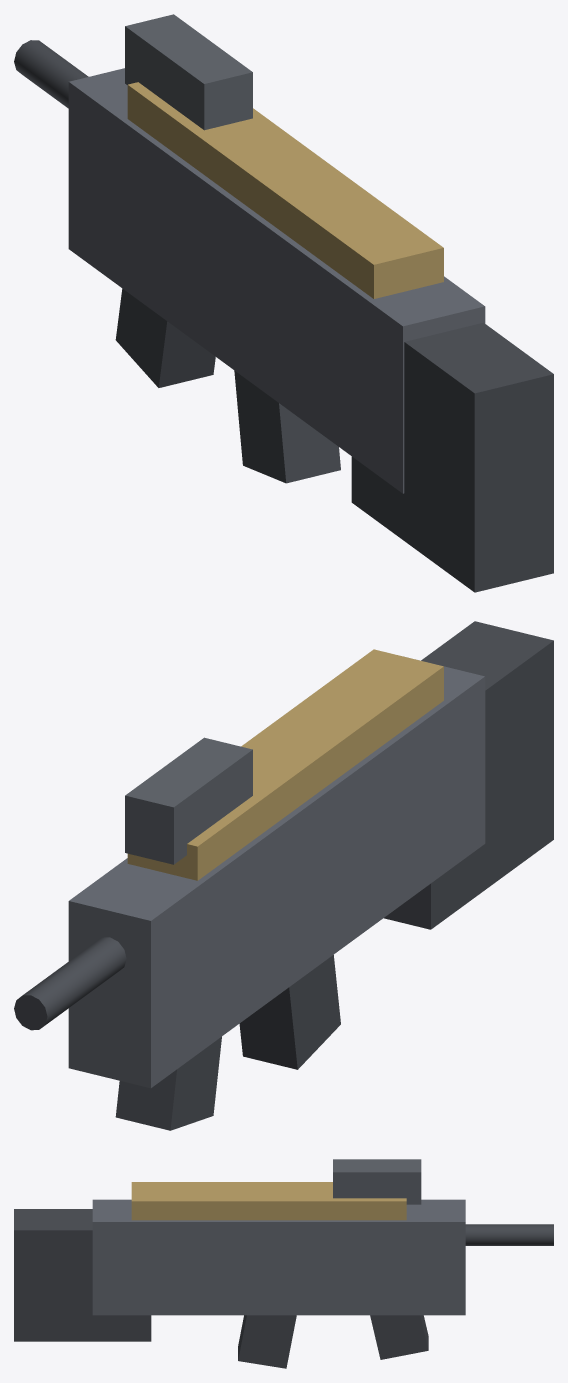
The picture shows the model from 3 angles, top to bottom: view 1: azimuth 30°, elevation 25°; view 2: azimuth 150°, elevation 25°; view 3: azimuth 270°, elevation 25°; orthographic projection. The views are drawn at different scales.
Parts seen in each view (by area): view 1: p90; view 2: p90; view 3: p90.
Boxes of the visible parts, x1=… form: p90: x1=14, y1=14, x2=553, y2=592; p90: x1=14, y1=621, x2=553, y2=1130; p90: x1=14, y1=1159, x2=553, y2=1368.
Bounding box in the file's own units: 0.054 × 0.2197 × 0.55.
